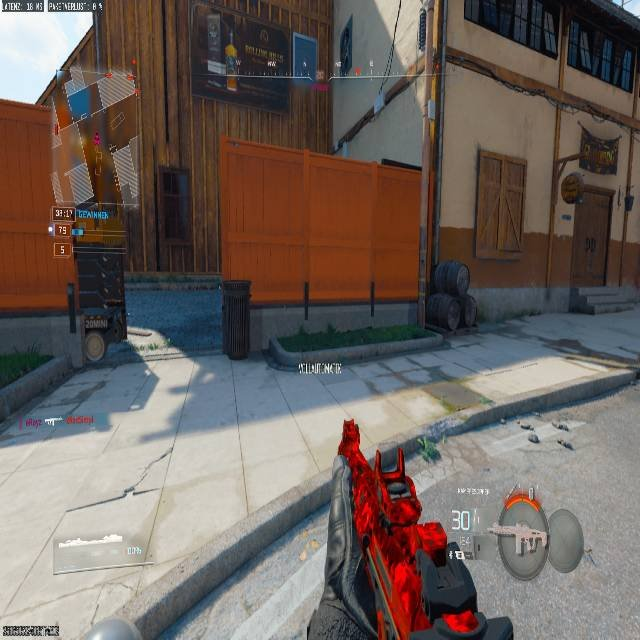player: (437, 265, 474, 334)
